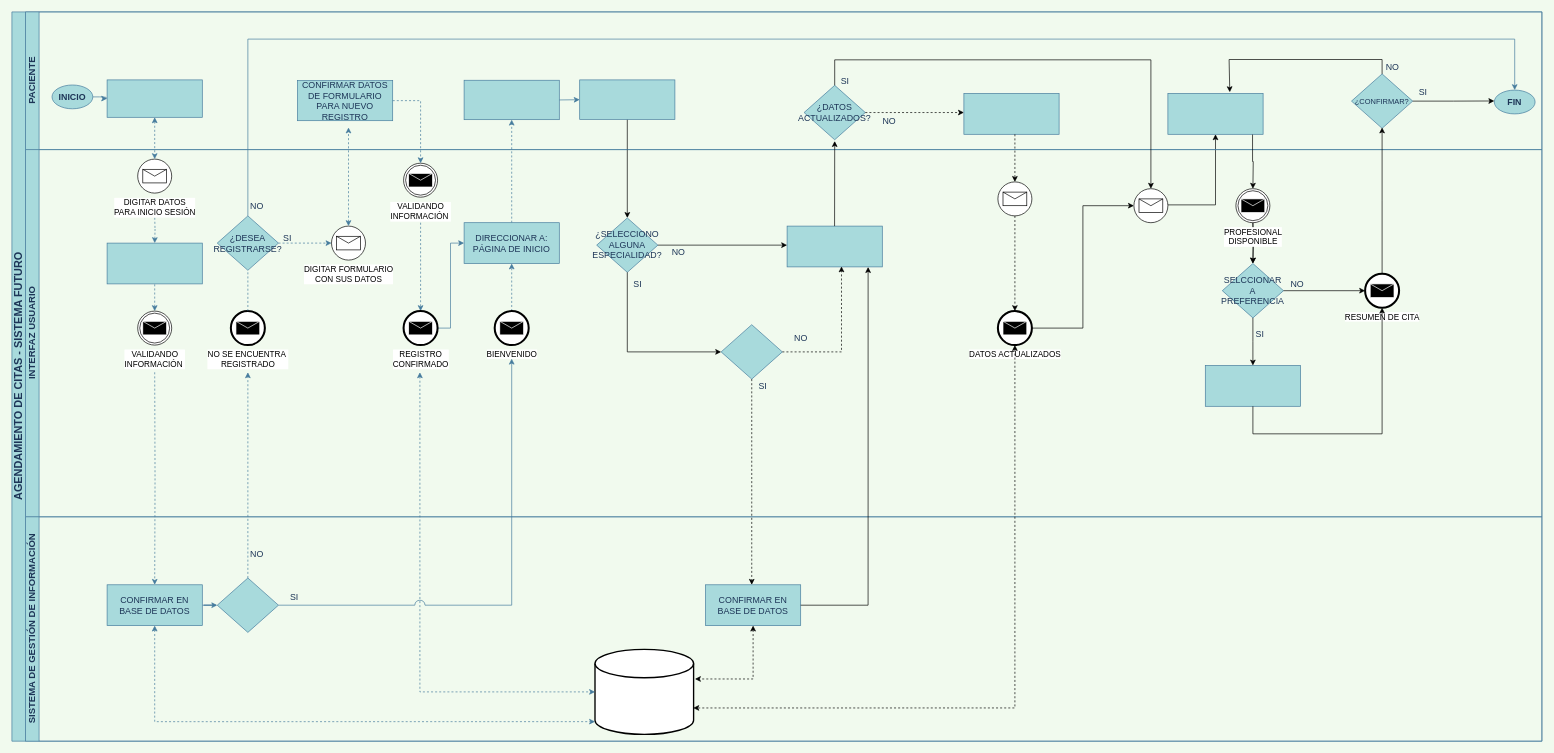
Some shapes in this 1554 by 753 pixel diagram are drawn without their labels. The shapes that lost their labels are listed below. From the top down, each one's centre as x and y in pixels, then its label:
[154,98]: INGRESAR APLATAFORMA WEB
[511,100]: INGRESAR A MODULO: AGENDAR CITAS
[627,99]: SELECCIONAR TIPO DE CITA MÉDICA
[1011,113]: INGRESA DATOS ACTUALIZADOS
[1215,113]: ESCOGER JORNADA DISPONIBLE
[1014,198]: PROCESANDO DATOS
[1150,205]: SELECCIONA LA FECHA Y HORA
[154,263]: LOGIN
[834,246]: CONFIRMACION DE DATOS BASICOS
[751,351]: ¿HAY ORDEN MÉDICA REGISTRADA?
[1252,385]: ESCOGER MEDICO
[247,604]: ¿USUARIO ESTA REGISTRADO?
[644,691]: BASE DE DATOS DE CLINICA
